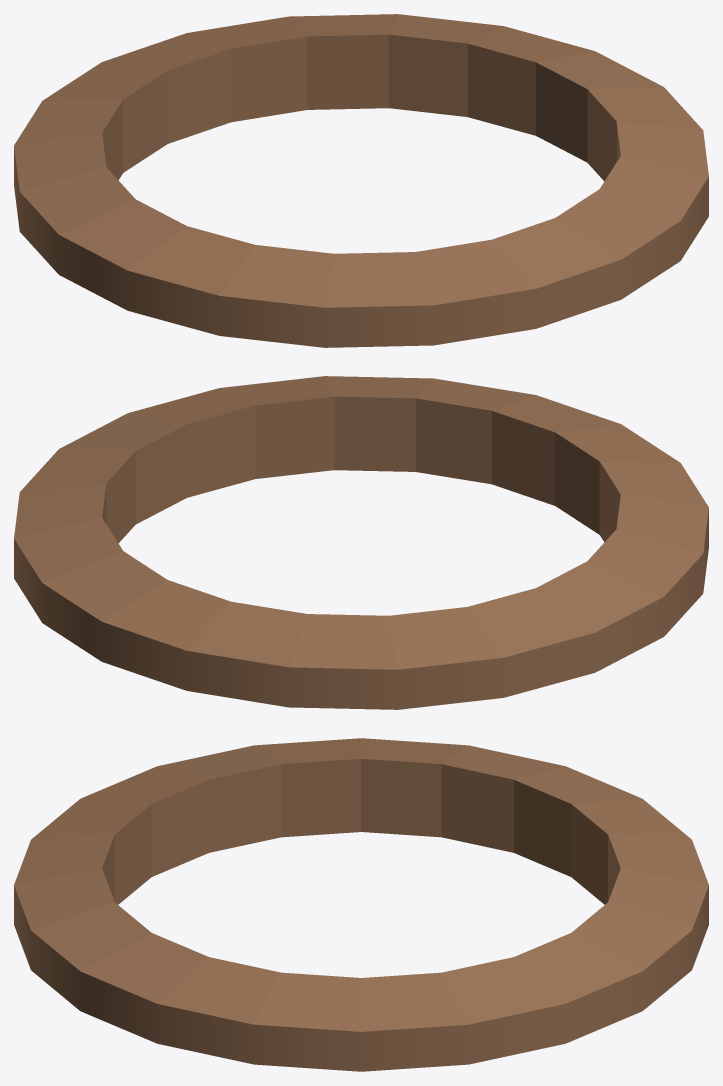
The model's file is Candlestick_Ring_01.fbx.
3 renders of one model, top to bottom at view 1: azimuth 30°, elevation 25°; view 2: azimuth 150°, elevation 25°; view 3: azimuth 270°, elevation 25°, orthographic.
Parts seen in each view (by area): view 1: Candlestick_Ring_01; view 2: Candlestick_Ring_01; view 3: Candlestick_Ring_01.
Boxes of the visible parts, x1,y1,x2,y2 form: Candlestick_Ring_01: [14, 14, 708, 347]; Candlestick_Ring_01: [14, 376, 708, 709]; Candlestick_Ring_01: [14, 738, 708, 1071].
Bounding box in the file's own units: 50.09 × 5.82 × 50.09.
